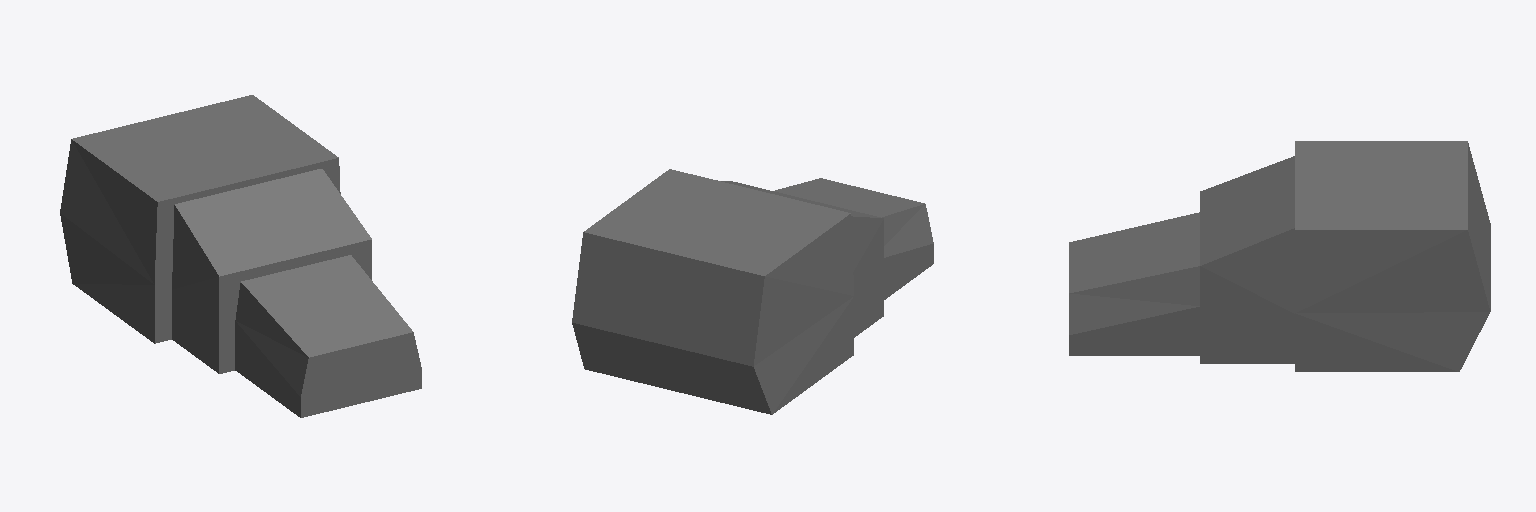
File: L_FootO.obj
The picture shows the model from 3 angles: view 1: azimuth 30°, elevation 25°; view 2: azimuth 150°, elevation 25°; view 3: azimuth 270°, elevation 25°; orthographic projection.
Visible parts, largest first — view 1: L_FootO:group7 L_FootO:pCube71 L_FootO:polySurface1; view 2: L_FootO:group7 L_FootO:pCube71 L_FootO:polySurface1; view 3: L_FootO:group7 L_FootO:pCube71 L_FootO:polySurface1.
Part boxes in pixels (left/top/right/bottom): L_FootO:group7 L_FootO:pCube71 L_FootO:polySurface1: left=60, top=95, right=421, bottom=417; L_FootO:group7 L_FootO:pCube71 L_FootO:polySurface1: left=572, top=169, right=933, bottom=414; L_FootO:group7 L_FootO:pCube71 L_FootO:polySurface1: left=1069, top=141, right=1490, bottom=371.
Size of the model in its own units: 1 by 0.7173 by 1.94.